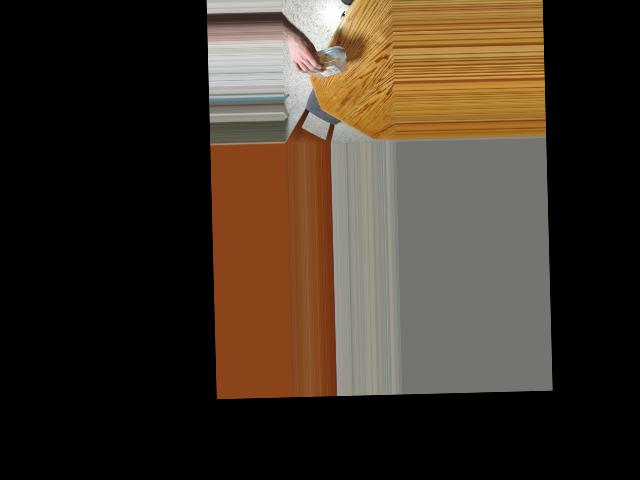cheese: (294, 42, 338, 79)
